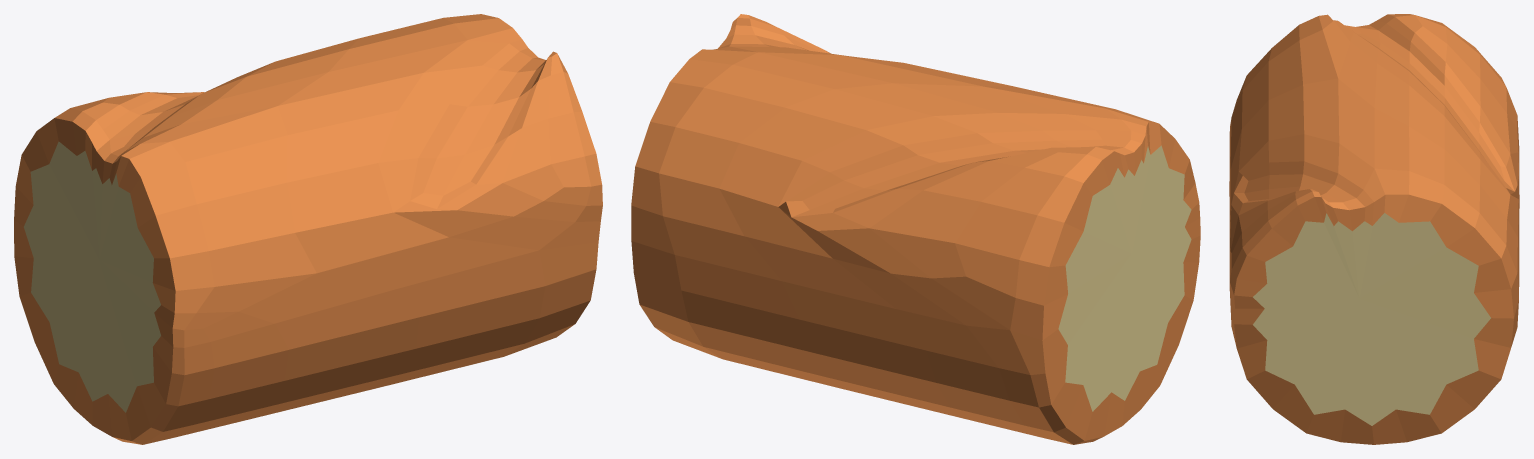
The model's file is BaugetteMidRight.fbx.
3 renders of one model, left to right at view 1: azimuth 30°, elevation 25°; view 2: azimuth 150°, elevation 25°; view 3: azimuth 270°, elevation 25°, orthographic. The views are drawn at different scales.
Visible parts, largest first — view 1: Куб.003; view 2: Куб.003; view 3: Куб.003.
Boxes of the visible parts, left/top/right/bottom form: Куб.003: left=14, top=14, right=602, bottom=444; Куб.003: left=631, top=14, right=1200, bottom=444; Куб.003: left=1229, top=14, right=1519, bottom=444.
Bounding box in the file's own units: 150 × 99.78 × 100.
